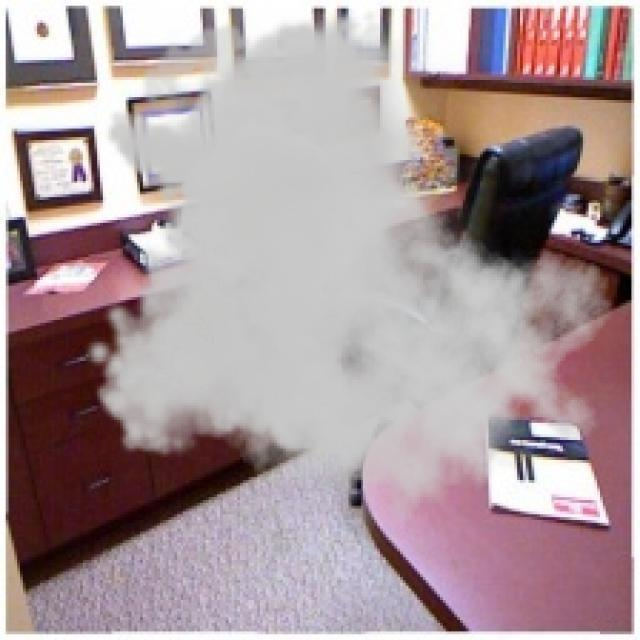Smoke: (82, 9, 614, 548)
